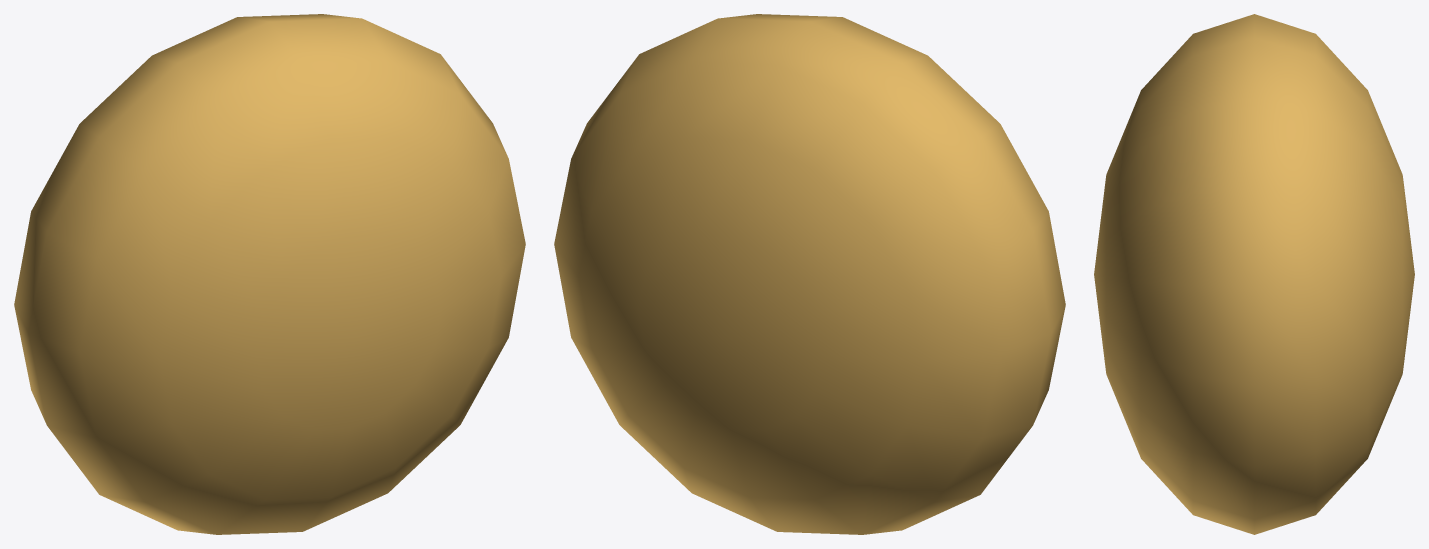
Rendered from stud.glb.
3 views of the same model, side by side, from view 1: azimuth 30°, elevation 25°; view 2: azimuth 150°, elevation 25°; view 3: azimuth 270°, elevation 25° (orthographic). The views are drawn at different scales.
Visible parts, largest first — view 1: compact-gold-stud-v1; view 2: compact-gold-stud-v1; view 3: compact-gold-stud-v1.
Part boxes in pixels (box(x1,y1,x2,y2)): compact-gold-stud-v1: box(14, 14, 525, 534); compact-gold-stud-v1: box(554, 14, 1065, 534); compact-gold-stud-v1: box(1094, 14, 1414, 534).
Bounding box in the file's own units: 0.0052 × 0.0052 × 0.0032.
